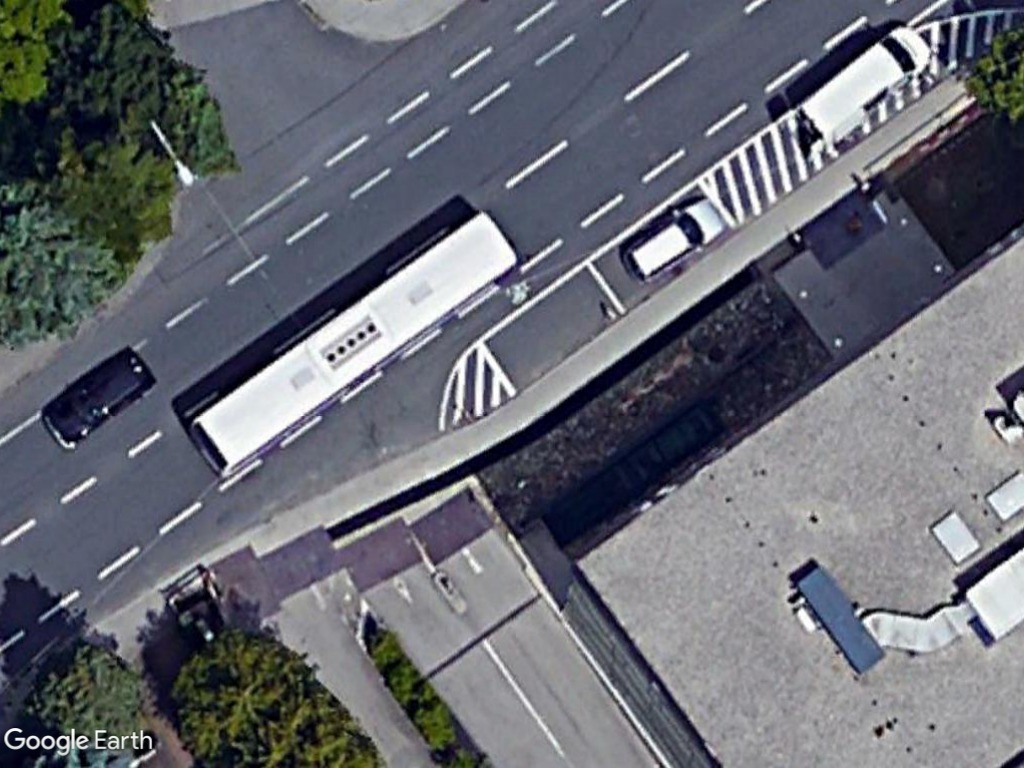bus: (184, 201, 524, 481)
car: (37, 338, 153, 459), (622, 189, 730, 286)
van: (797, 21, 936, 148)
